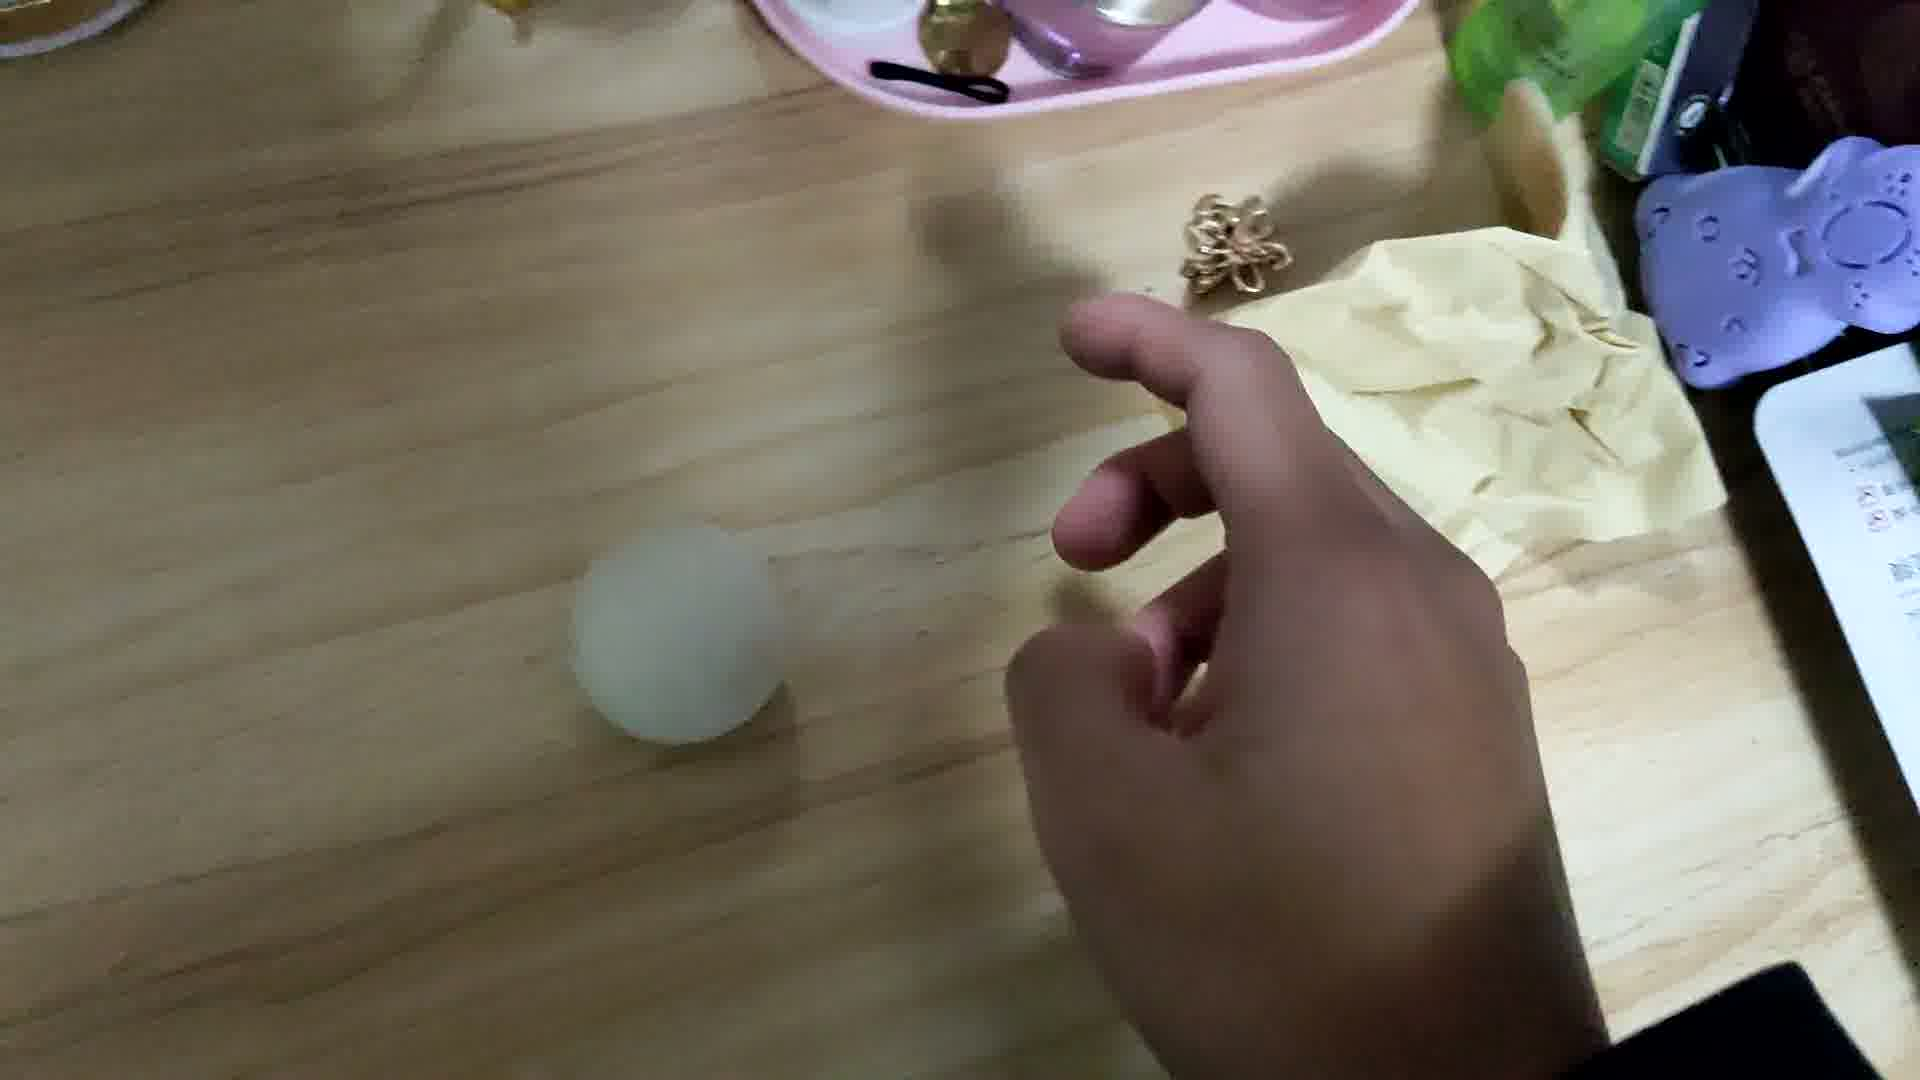Ball: (578, 524, 791, 740)
